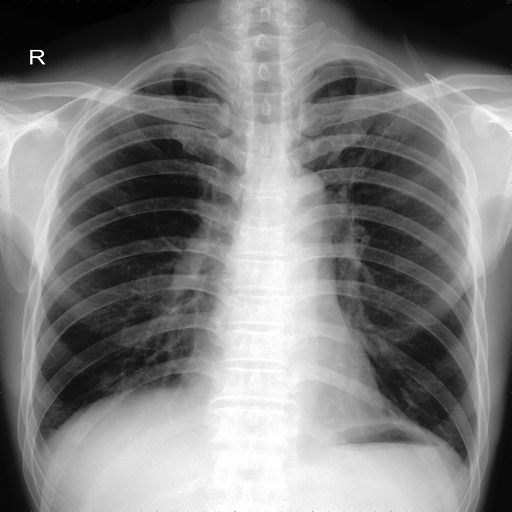Calcification: (24, 426, 57, 458), (457, 450, 479, 472)
Pleural effusion: (24, 426, 57, 458), (457, 450, 479, 472)
Pneumothorax: (345, 80, 413, 161)
